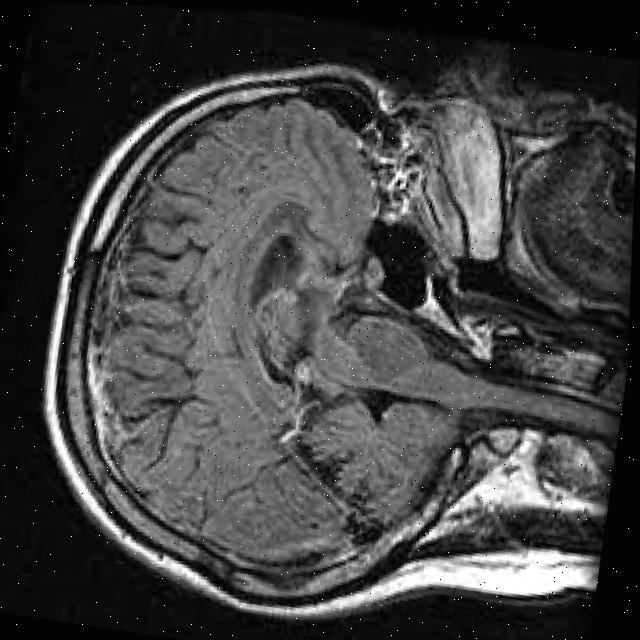NoTumor: (13, 22, 509, 638)
